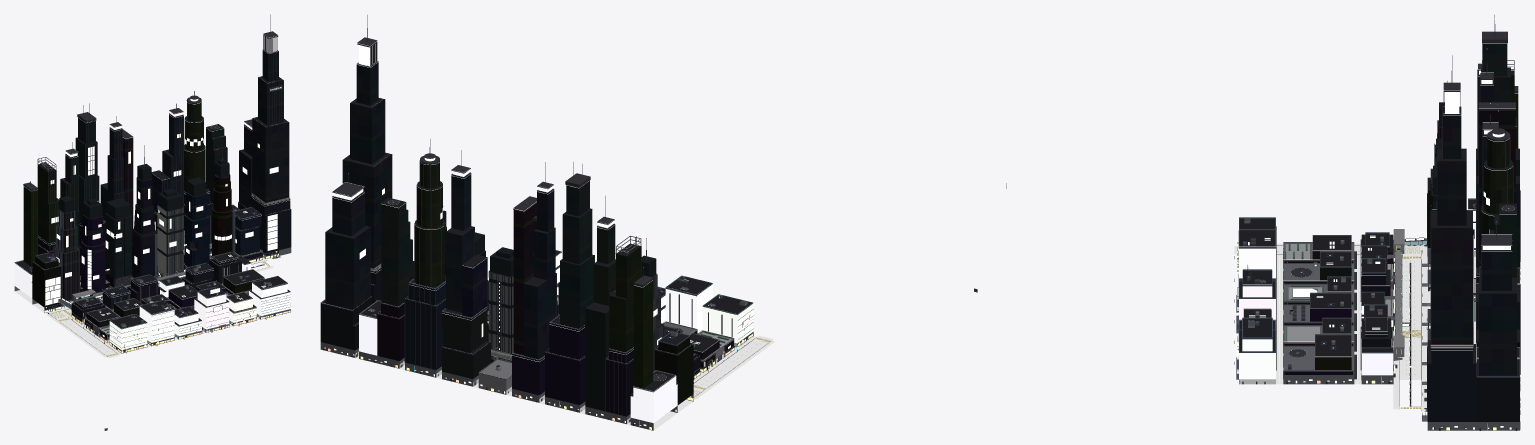
The model's file is world-phone-corpo.glb.
The picture shows the model from 3 angles, left to right: view 1: azimuth 30°, elevation 25°; view 2: azimuth 150°, elevation 25°; view 3: azimuth 270°, elevation 25°; orthographic projection. The views are drawn at different scales.
Parts seen in each view (by area): view 1: corpo_corporate, corpo_trim, corpo_roof, corpo_facade, corpo_billboard, corpo_crown_glass, corpo_castconcrete, corpo_board_frame, corpo_glow, corpo_asphalt, corpo_sidewalk, corpo_sign (+3 smaller); view 2: corpo_corporate, corpo_trim, corpo_facade, corpo_roof, corpo_castconcrete, corpo_glow, corpo_sidewalk, corpo_crown_glass, corpo_asphalt; view 3: corpo_corporate, corpo_trim, corpo_roof, corpo_facade, corpo_asphalt, corpo_glow, corpo_concrete, corpo_castconcrete, corpo_sidewalk, corpo_steel, corpo_metal.
Part boxes in pixels (bbox=[...]): corpo_corporate: bbox=[23, 49, 291, 339]; corpo_trim: bbox=[14, 31, 291, 353]; corpo_roof: bbox=[16, 49, 290, 328]; corpo_facade: bbox=[14, 263, 290, 350]; corpo_billboard: bbox=[45, 137, 278, 352]; corpo_crown_glass: bbox=[59, 158, 229, 219]; corpo_castconcrete: bbox=[72, 205, 263, 333]; corpo_board_frame: bbox=[45, 133, 286, 352]; corpo_glow: bbox=[24, 34, 289, 332]; corpo_asphalt: bbox=[49, 309, 119, 357]; corpo_sidewalk: bbox=[15, 257, 280, 357]; corpo_sign: bbox=[46, 133, 290, 350]; corpo_corporate: bbox=[320, 62, 733, 416]; corpo_trim: bbox=[320, 37, 771, 430]; corpo_facade: bbox=[359, 253, 753, 422]; corpo_roof: bbox=[322, 61, 751, 396]; corpo_castconcrete: bbox=[487, 271, 724, 361]; corpo_glow: bbox=[324, 14, 736, 425]; corpo_sidewalk: bbox=[320, 336, 774, 430]; corpo_crown_glass: bbox=[443, 210, 656, 276]; corpo_asphalt: bbox=[689, 335, 773, 397]; corpo_corporate: bbox=[1284, 43, 1519, 421]; corpo_trim: bbox=[1236, 31, 1520, 430]; corpo_roof: bbox=[1239, 68, 1519, 376]; corpo_facade: bbox=[1239, 211, 1519, 379]; corpo_asphalt: bbox=[1234, 246, 1421, 379]; corpo_glow: bbox=[1239, 14, 1519, 427]; corpo_concrete: bbox=[1239, 251, 1475, 384]; corpo_castconcrete: bbox=[1384, 229, 1473, 405]; corpo_sidewalk: bbox=[1276, 243, 1520, 430]; corpo_steel: bbox=[1247, 60, 1514, 370]; corpo_metal: bbox=[1250, 15, 1510, 418].
Bounding box in the file's own units: 472 × 330 × 420.
